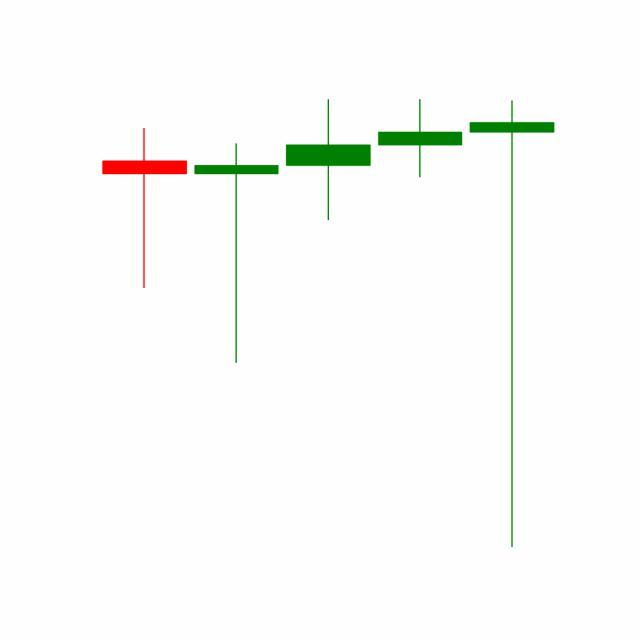Spinning Top: (466, 97, 559, 554)
